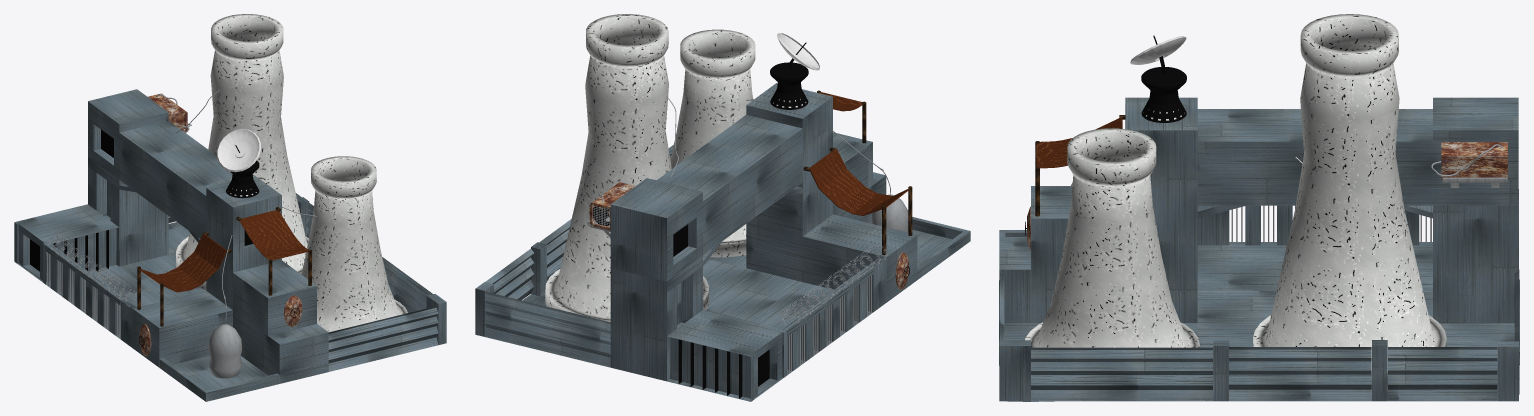
File: Company_building.glb
3 views of the same model, side by side, from view 1: azimuth 30°, elevation 25°; view 2: azimuth 150°, elevation 25°; view 3: azimuth 270°, elevation 25° (orthographic). The views are drawn at different scales.
Parts seen in each view (by area): view 1: Cube, Circle, Circle.001, Plane.001, Plane.002, Sphere, Circle.003, NurbsPath.056, Spiral, Cube.001, Circle.002, Cube.004 (+1 smaller); view 2: Cube, Circle.001, Circle, Plane.001, Circle.002, NurbsPath.056, Spiral, Cube.001, Sphere, Circle.003, Cube.004; view 3: Cube, Circle.001, Circle, Cube.004, Circle.002, Plane.002, Circle.003, NurbsPath.056, Plane.
Boxes of the visible parts, <box> form: Cube: <box>14,89,446,401</box>; Circle: <box>301,156,407,349</box>; Circle.001: <box>176,14,308,289</box>; Plane.001: <box>137,234,226,292</box>; Plane.002: <box>239,210,308,260</box>; Sphere: <box>208,324,242,378</box>; Circle.003: <box>217,129,260,172</box>; NurbsPath.056: <box>47,252,120,338</box>; Spiral: <box>48,234,137,307</box>; Cube.001: <box>45,244,125,305</box>; Circle.002: <box>226,160,259,198</box>; Cube.004: <box>148,93,187,131</box>; Cube: <box>475,83,970,401</box>; Circle.001: <box>545,14,708,331</box>; Circle: <box>670,29,755,257</box>; Plane.001: <box>809,149,910,215</box>; Circle.002: <box>770,62,808,109</box>; NurbsPath.056: <box>787,275,871,374</box>; Spiral: <box>782,244,887,324</box>; Cube.001: <box>781,266,873,336</box>; Sphere: <box>871,194,908,232</box>; Circle.003: <box>777,33,819,70</box>; Cube.004: <box>589,182,635,230</box>; Cube: <box>999,97,1519,401</box>; Circle.001: <box>1253,14,1446,394</box>; Circle: <box>1025,128,1199,347</box>; Cube.004: <box>1441,142,1507,179</box>; Circle.002: <box>1141,67,1186,122</box>; Plane.002: <box>1036,118,1122,168</box>; Circle.003: <box>1130,35,1186,74</box>; NurbsPath.056: <box>1231,205,1431,242</box>; Plane: <box>1442,177,1507,187</box>.
Size of the model in its own units: 39.05 by 37.1 by 52.89.
9 materials, 6 textured.
